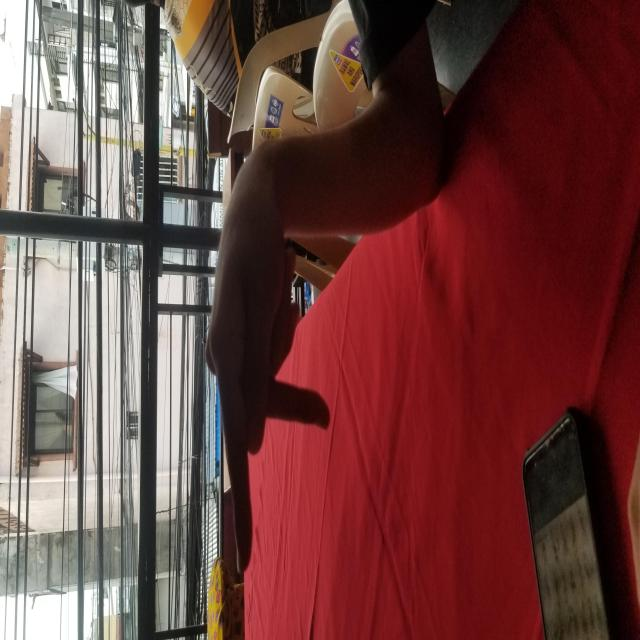P: (158, 175, 363, 609)
